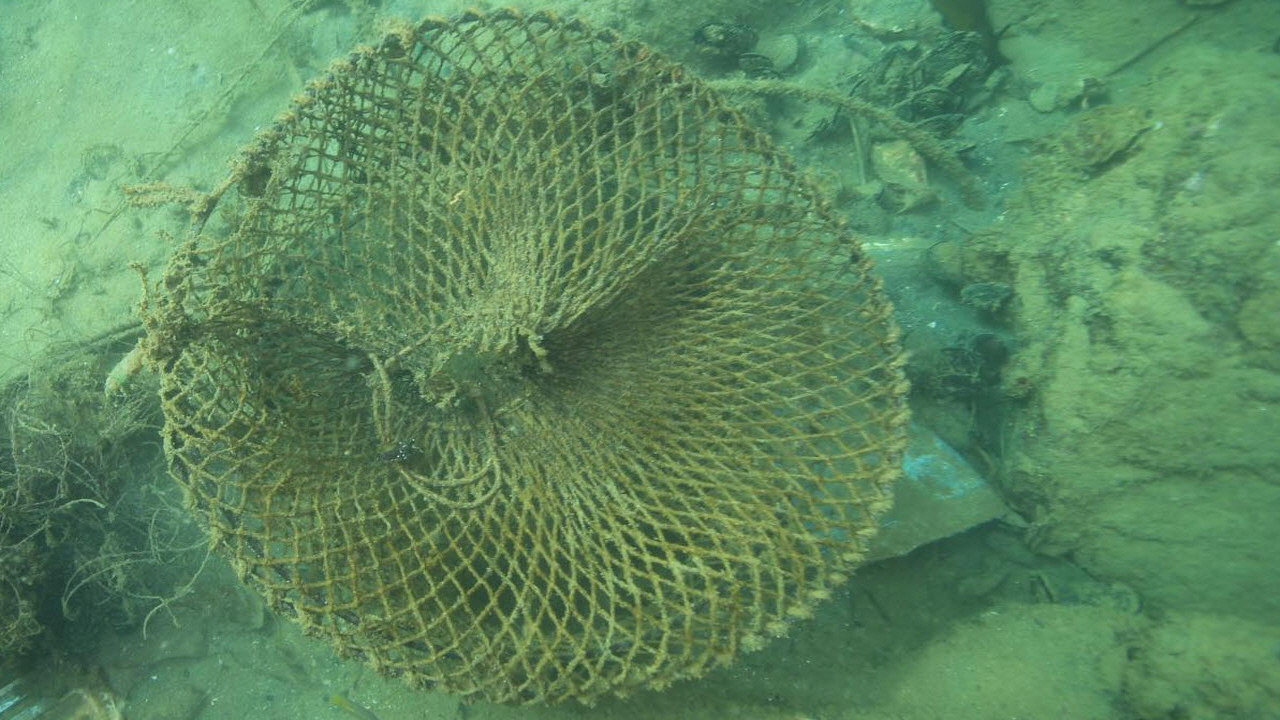circular fish trap: (157, 6, 912, 704)
